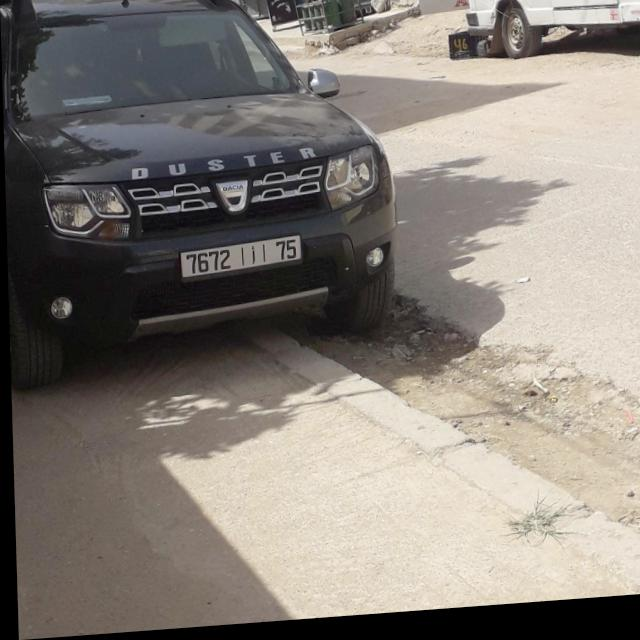License-Plate: (179, 240, 299, 281)
